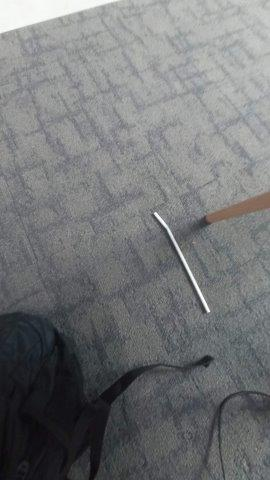sedotan: (153, 212, 210, 314)
